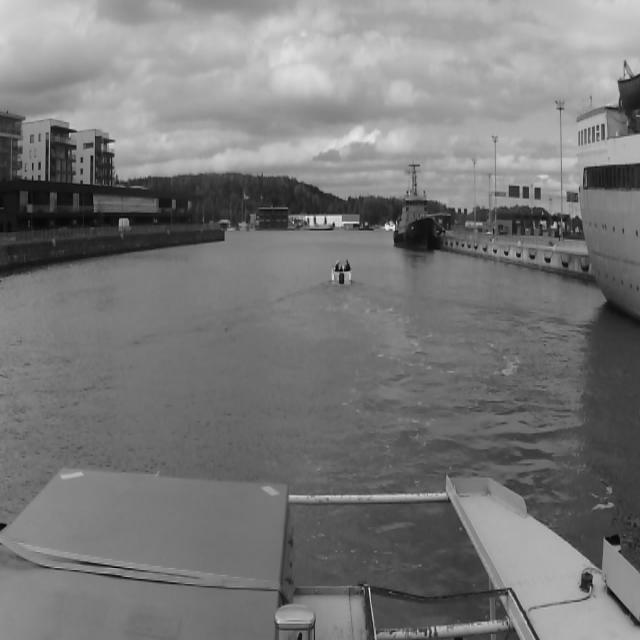ship: (579, 76, 640, 314), (393, 161, 445, 257), (329, 258, 355, 284)
